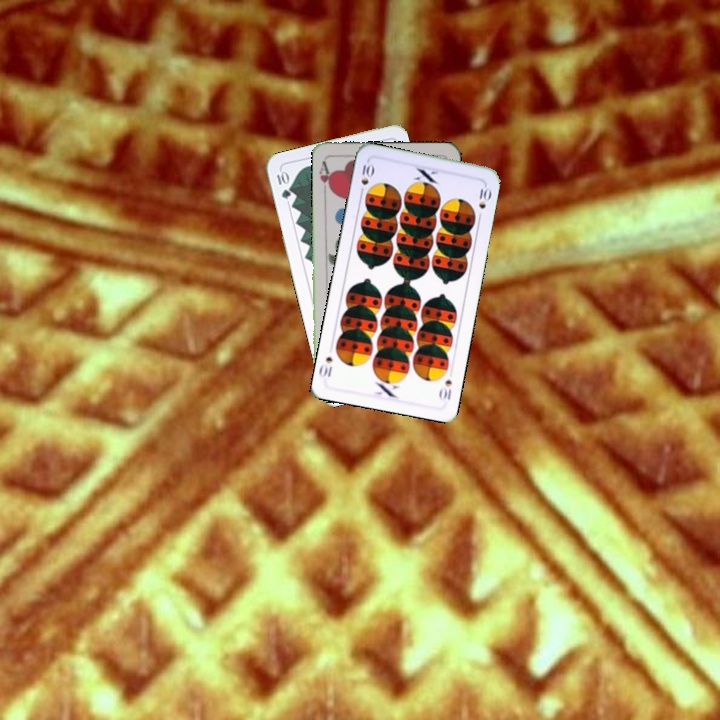G10: (273, 166, 293, 201)
HA: (315, 157, 335, 197)
S10: (356, 160, 376, 199), (435, 376, 454, 402)
